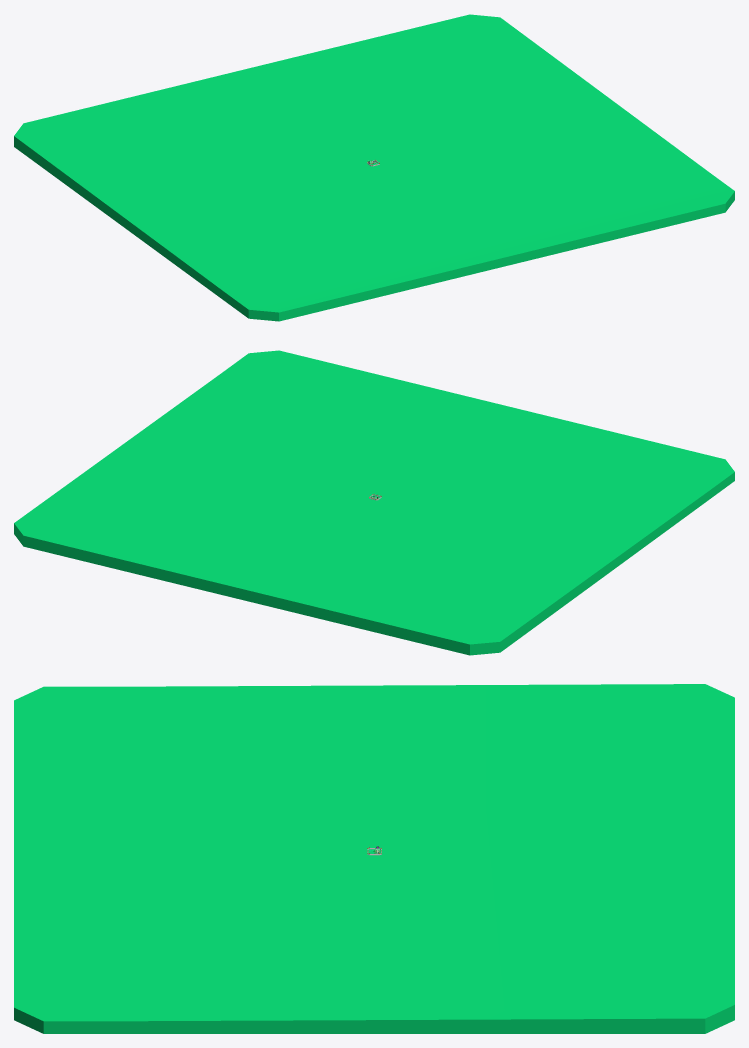
Rendered from environment.glb.
The picture shows the model from 3 angles, top to bottom: view 1: azimuth 30°, elevation 25°; view 2: azimuth 150°, elevation 25°; view 3: azimuth 270°, elevation 25°; orthographic projection. The views are drawn at different scales.
Visible parts, largest first — view 1: base.001; view 2: base.001; view 3: base.001.
Boxes of the visible parts, x1,y1,x2,y2 form: base.001: (14,14,734,321); base.001: (14,350,734,655); base.001: (14,684,734,1033).
Bounding box in the file's own units: 2014 × 50.08 × 1834.
